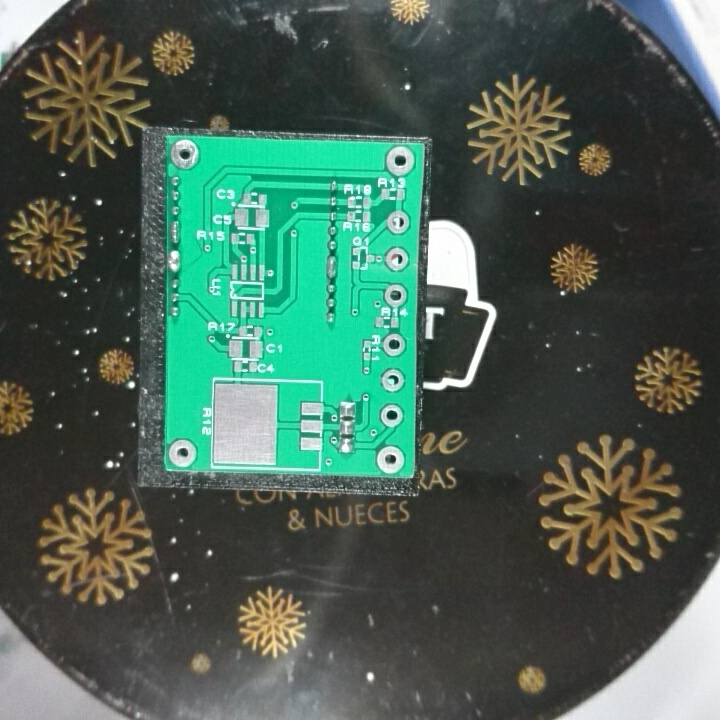F: (383, 143, 417, 179), (168, 136, 202, 172), (374, 443, 408, 476), (167, 437, 198, 469), (380, 330, 408, 360), (378, 366, 406, 395), (385, 209, 413, 237), (383, 246, 411, 272), (382, 282, 408, 309), (377, 403, 404, 429)
P: (166, 247, 181, 273), (168, 218, 182, 245), (325, 254, 339, 280)
